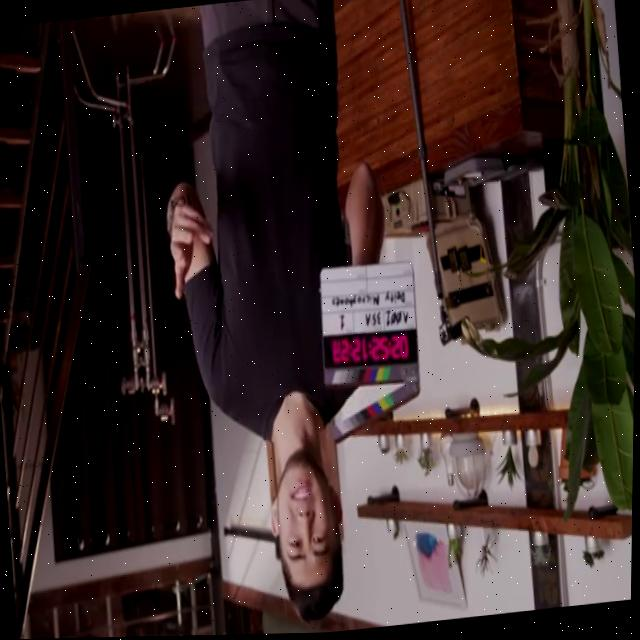Clapperboard: (319, 260, 420, 444)
